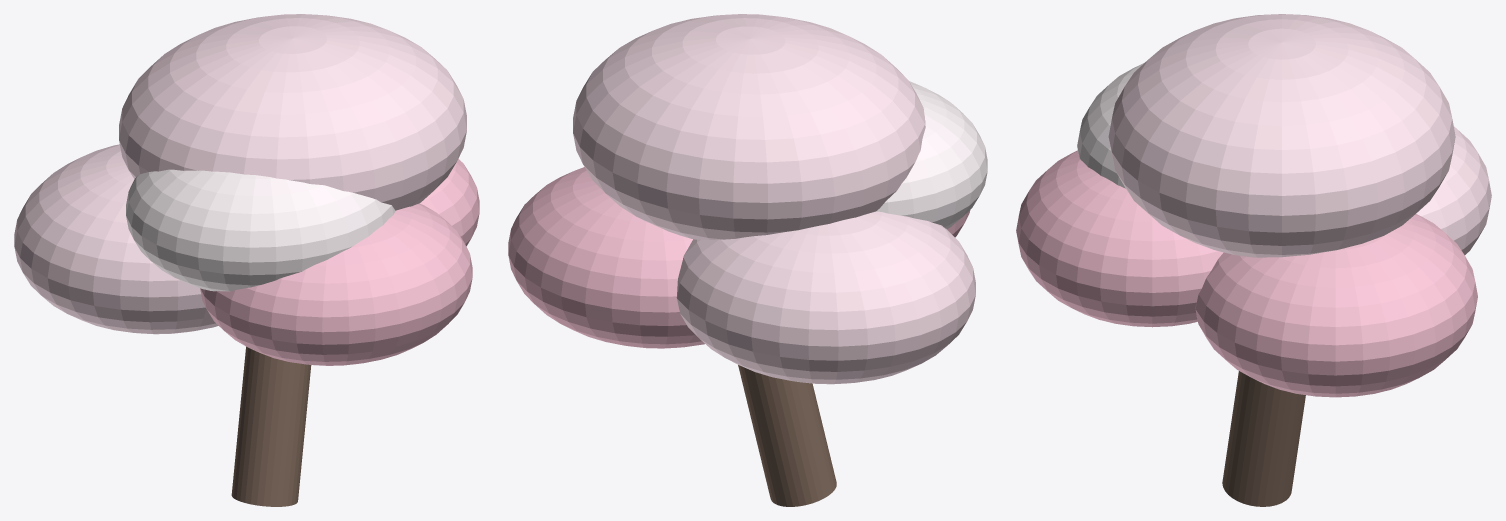
The model's file is aoe_sakura_blossom_01.glb.
The picture shows the model from 3 angles, left to right: view 1: azimuth 30°, elevation 25°; view 2: azimuth 150°, elevation 25°; view 3: azimuth 270°, elevation 25°; orthographic projection. The views are drawn at different scales.
Parts seen in each view (by area): view 1: Sphere.006, Sphere.004, Sphere.008, Sphere.002, Cylinder, Sphere; view 2: Sphere.006, Sphere.002, Sphere, Cylinder, Sphere.008; view 3: Sphere.006, Sphere, Sphere.004, Cylinder, Sphere.002, Sphere.008.
Part boxes in pixels (x1,y1,x2,y2): Sphere.006: [119, 14, 466, 210]; Sphere.004: [200, 203, 472, 365]; Sphere.008: [126, 169, 395, 291]; Sphere.002: [14, 144, 218, 334]; Cylinder: [231, 346, 311, 506]; Sphere: [420, 159, 479, 246]; Sphere.006: [573, 14, 925, 239]; Sphere.002: [676, 211, 975, 384]; Sphere: [508, 167, 704, 348]; Cylinder: [738, 365, 836, 506]; Sphere.008: [877, 81, 987, 228]; Sphere.006: [1108, 14, 1455, 257]; Sphere: [1195, 214, 1477, 397]; Sphere.004: [1016, 150, 1223, 327]; Cylinder: [1222, 371, 1305, 506]; Sphere.002: [1416, 126, 1491, 254]; Sphere.008: [1077, 63, 1143, 188].
Size of the model in its own units: 6.82 by 6.82 by 6.24.
